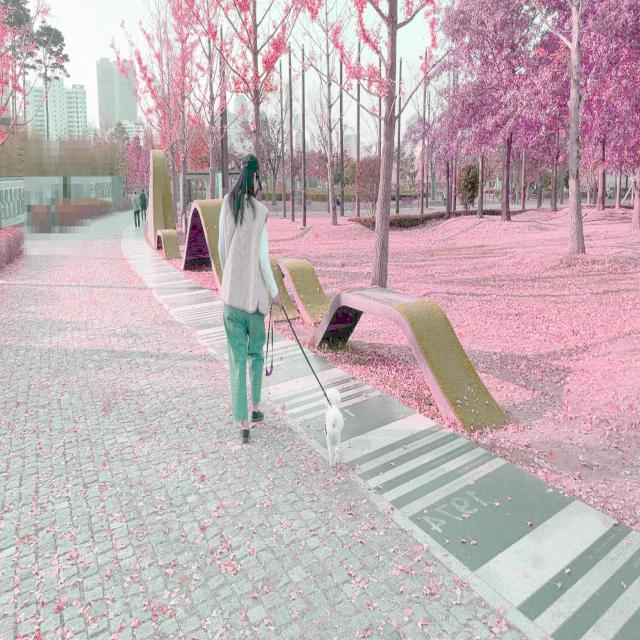Leashed_Dog: (254, 284, 344, 472)
